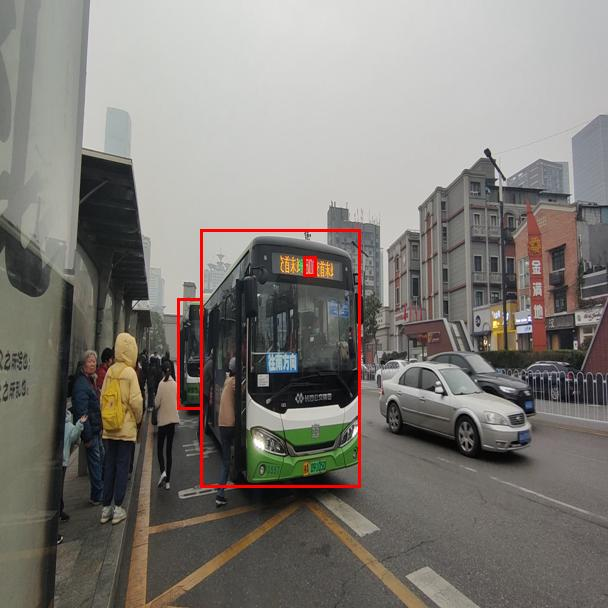bus: (200, 229, 360, 487), (177, 298, 202, 409)
screen: (303, 256, 316, 276)
